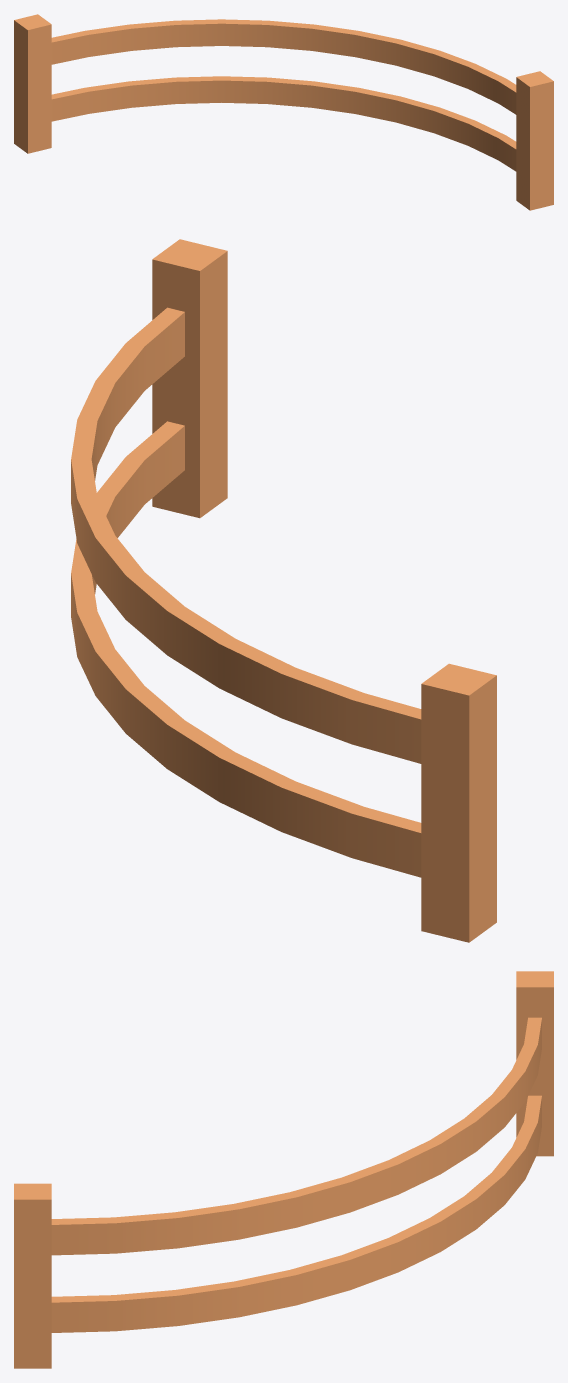
File: fence_cornerRound.fbx
The picture shows the model from 3 angles, top to bottom: view 1: azimuth 30°, elevation 25°; view 2: azimuth 150°, elevation 25°; view 3: azimuth 270°, elevation 25°; orthographic projection. The views are drawn at different scales.
Visible parts, largest first — view 1: fence_cornerRound; view 2: fence_cornerRound; view 3: fence_cornerRound.
Boxes of the visible parts, <box> form: fence_cornerRound: <box>14,14,553,210</box>; fence_cornerRound: <box>71,239,496,942</box>; fence_cornerRound: <box>14,971,553,1368</box>.
Size of the model in its own units: 10 by 3.45 by 10.
